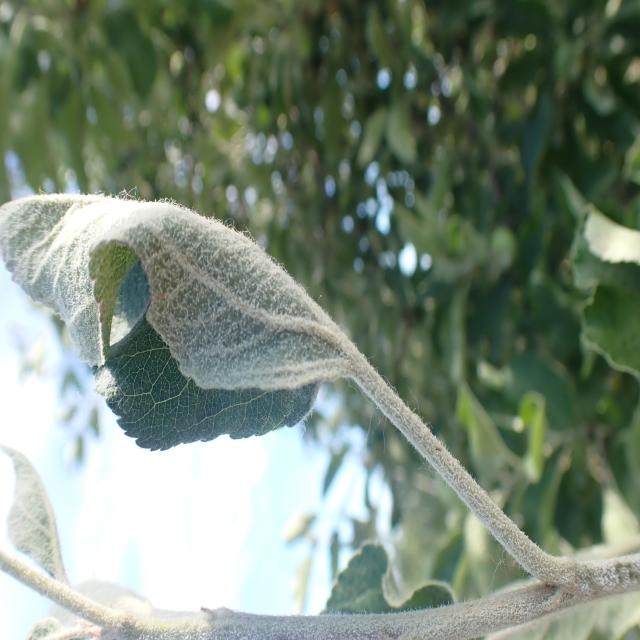Powdery_mildew: (0, 157, 400, 495), (0, 436, 98, 636)
